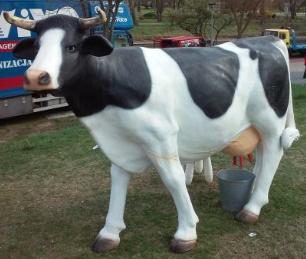cow: (2, 7, 298, 254)
